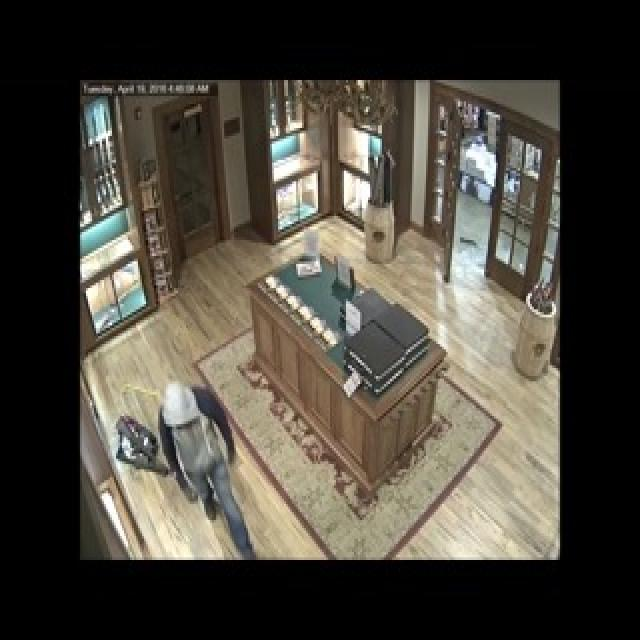thief: (132, 368, 248, 538)
